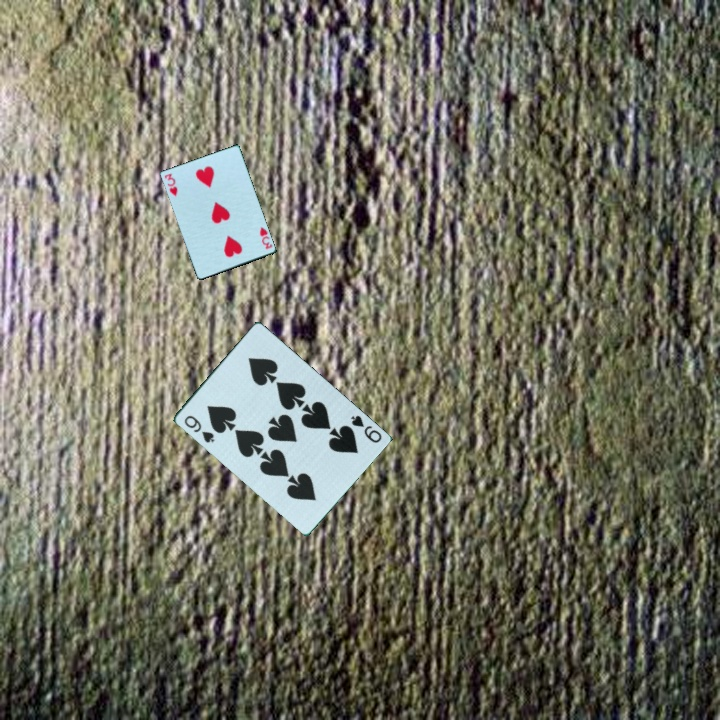3h: (161, 170, 181, 199), (256, 223, 275, 252)
9s: (180, 412, 217, 446), (347, 412, 384, 446)
